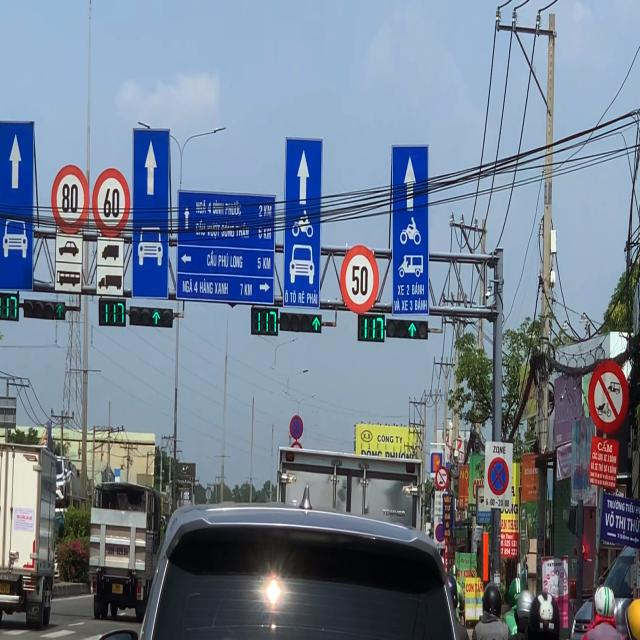Cam con lai: (587, 356, 629, 434)
Cam dung va do: (487, 456, 510, 496), (288, 413, 304, 441)
Toc do toi da: (51, 163, 90, 235), (339, 244, 379, 314), (93, 166, 131, 237)
